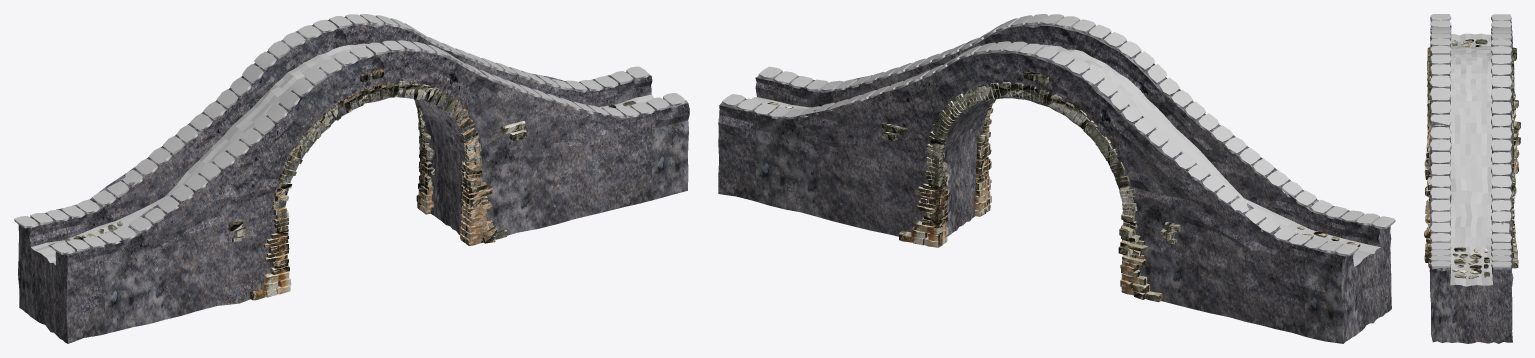
File: PuentePiedra.fbx
The picture shows the model from 3 angles, left to right: view 1: azimuth 30°, elevation 25°; view 2: azimuth 150°, elevation 25°; view 3: azimuth 270°, elevation 25°; orthographic projection. The views are drawn at different scales.
Visible parts, largest first — view 1: Object062; view 2: Object062; view 3: Object062.
Boxes of the visible parts, x1,y1,x2,y2 form: Object062: (14, 14, 689, 343); Object062: (718, 14, 1395, 343); Object062: (1424, 14, 1520, 343).
Bounding box in the file's own units: 3.33 × 1.1 × 0.5364.
